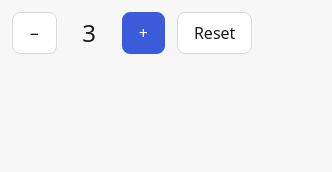
Test: Counter › resets to the initial count
The image size is (332, 172).
Click the button named "Increment".
click(143, 33)  # box [122,12,165,54]
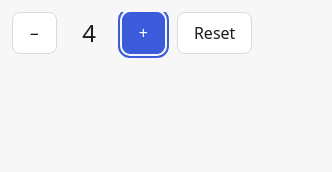
Click the button "Reset".
click(215, 33)  # box [177,12,252,54]
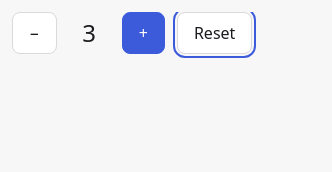
Result: the text named "Current count" reads "3" at [82,16,96,49]
